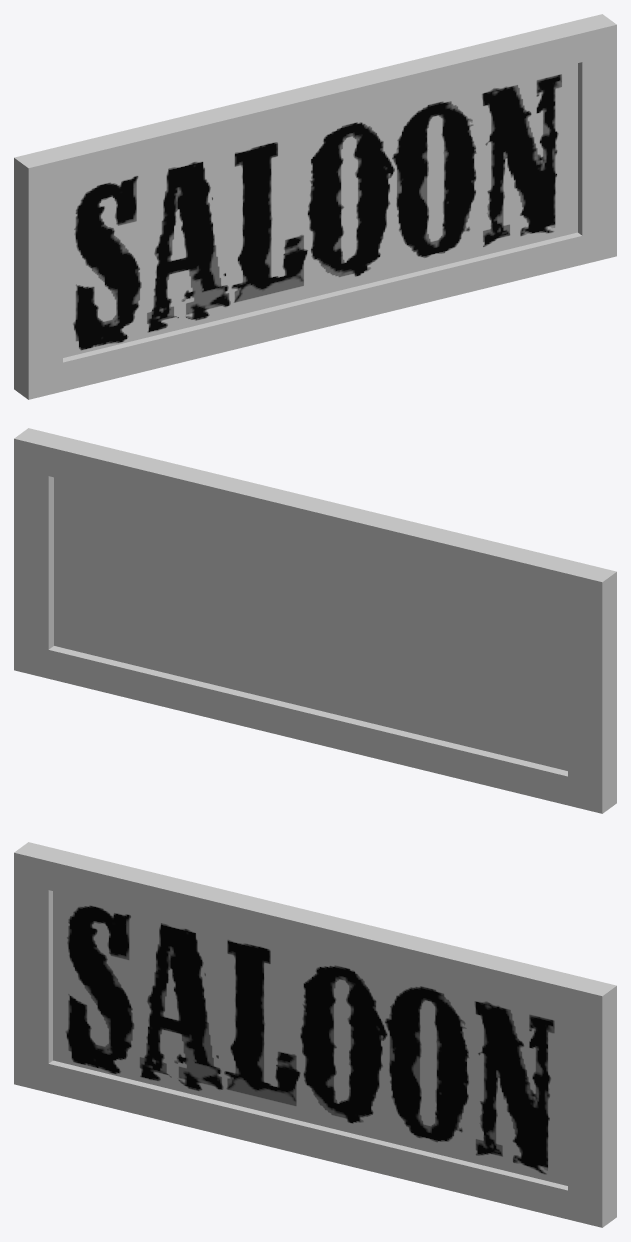
The model's file is SignBoard_5.fbx.
3 views of the same model, one above another, from view 1: azimuth 30°, elevation 25°; view 2: azimuth 150°, elevation 25°; view 3: azimuth 330°, elevation 25° (orthographic).
Parts seen in each view (by area): view 1: SignBoard_5; view 2: SignBoard_5; view 3: SignBoard_5.
Boxes of the visible parts, x1,y1,x2,y2 form: SignBoard_5: [14, 14, 616, 399]; SignBoard_5: [14, 428, 616, 813]; SignBoard_5: [14, 842, 616, 1227].
Bounding box in the file's own units: 2.13 × 0.8 × 0.0909.
